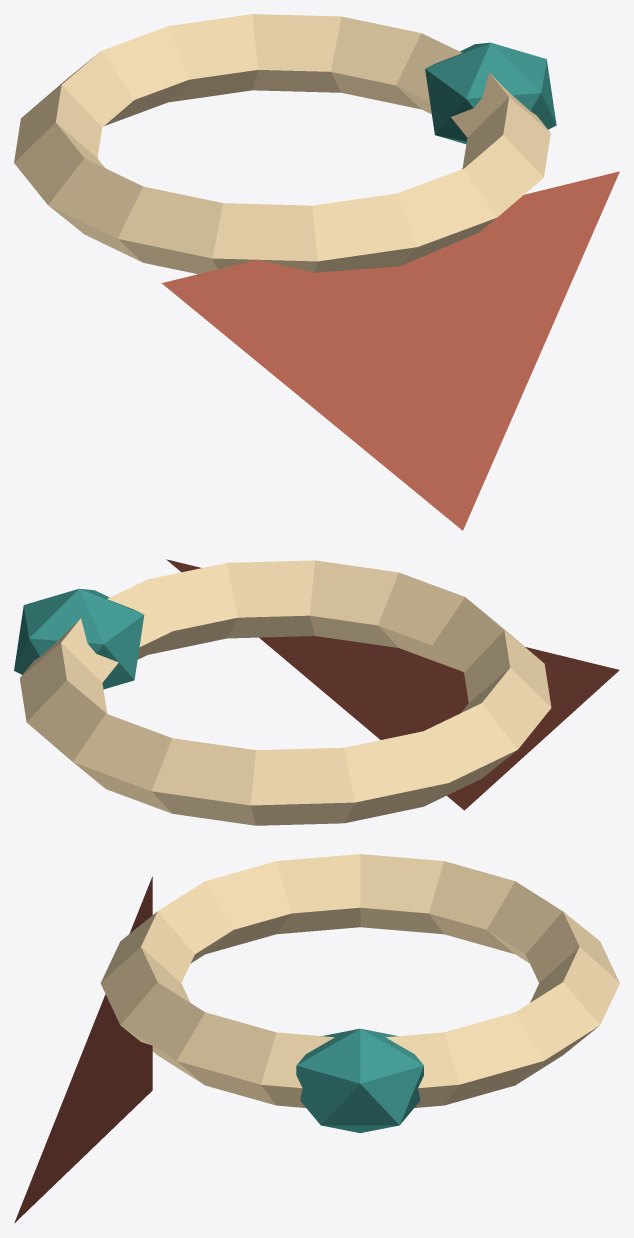
The model's file is outfit_bandana.glb.
3 renders of one model, top to bottom at view 1: azimuth 30°, elevation 25°; view 2: azimuth 150°, elevation 25°; view 3: azimuth 270°, elevation 25°, orthographic. The views are drawn at different scales.
Visible parts, largest first — view 1: collar, kerchief, knot; view 2: collar, kerchief, knot; view 3: collar, kerchief, knot.
Part boxes in pixels (x1,y1,x2,y2): collar: [14, 14, 550, 274]; kerchief: [161, 171, 619, 530]; knot: [425, 42, 556, 144]; collar: [19, 560, 551, 825]; kerchief: [166, 559, 619, 810]; knot: [14, 588, 144, 689]; collar: [100, 854, 619, 1107]; kerchief: [14, 876, 152, 1222]; knot: [296, 1028, 423, 1133].
Bounding box in the file's own units: 0.4787 × 0.28 × 0.525.
